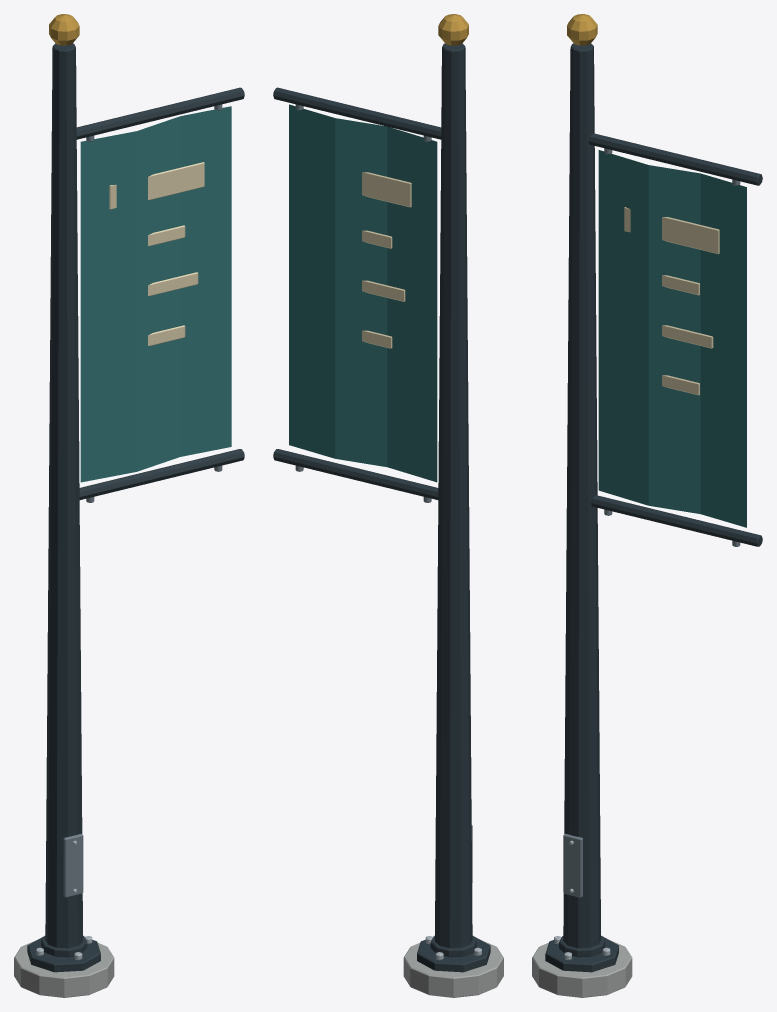
File: b18_single_banner_street_standard.glb
3 views of the same model, side by side, from view 1: azimuth 30°, elevation 25°; view 2: azimuth 150°, elevation 25°; view 3: azimuth 330°, elevation 25° (orthographic).
Parts seen in each view (by area): view 1: b18_single_banner_street_standard; view 2: b18_single_banner_street_standard; view 3: b18_single_banner_street_standard.
Part boxes in pixels (left/top/right/bottom): b18_single_banner_street_standard: left=14, top=14, right=244, bottom=997; b18_single_banner_street_standard: left=273, top=14, right=503, bottom=997; b18_single_banner_street_standard: left=532, top=14, right=762, bottom=997.
Size of the model in its own units: 1.02 by 4.24 by 0.4.
